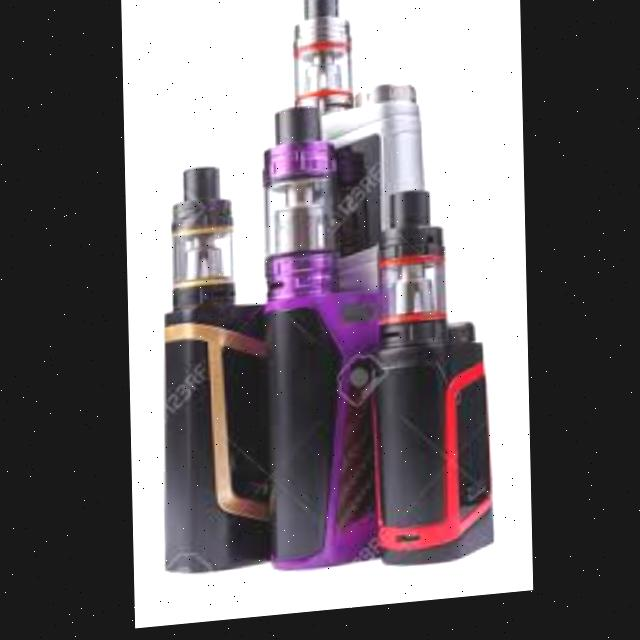vape: (262, 109, 390, 576), (154, 153, 285, 579), (364, 192, 494, 574), (291, 0, 427, 317)
